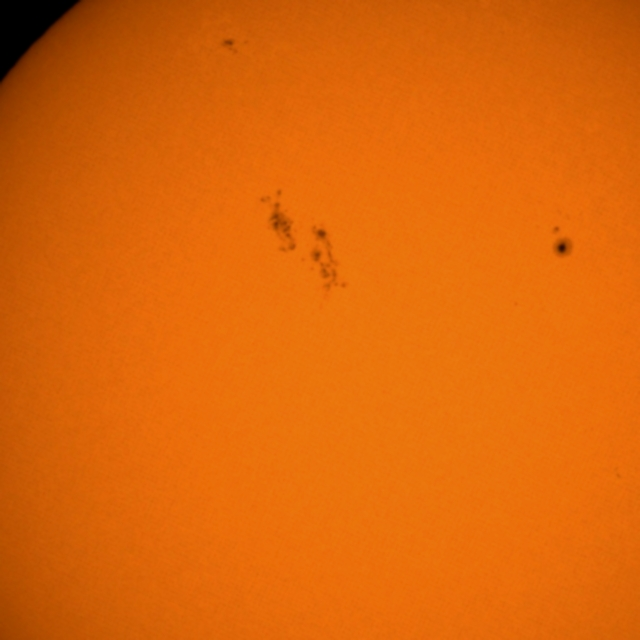sunspot: (260, 214, 340, 264), (301, 241, 349, 296), (260, 186, 298, 242), (268, 211, 298, 254), (550, 225, 574, 260), (219, 36, 250, 56), (512, 300, 520, 309)
